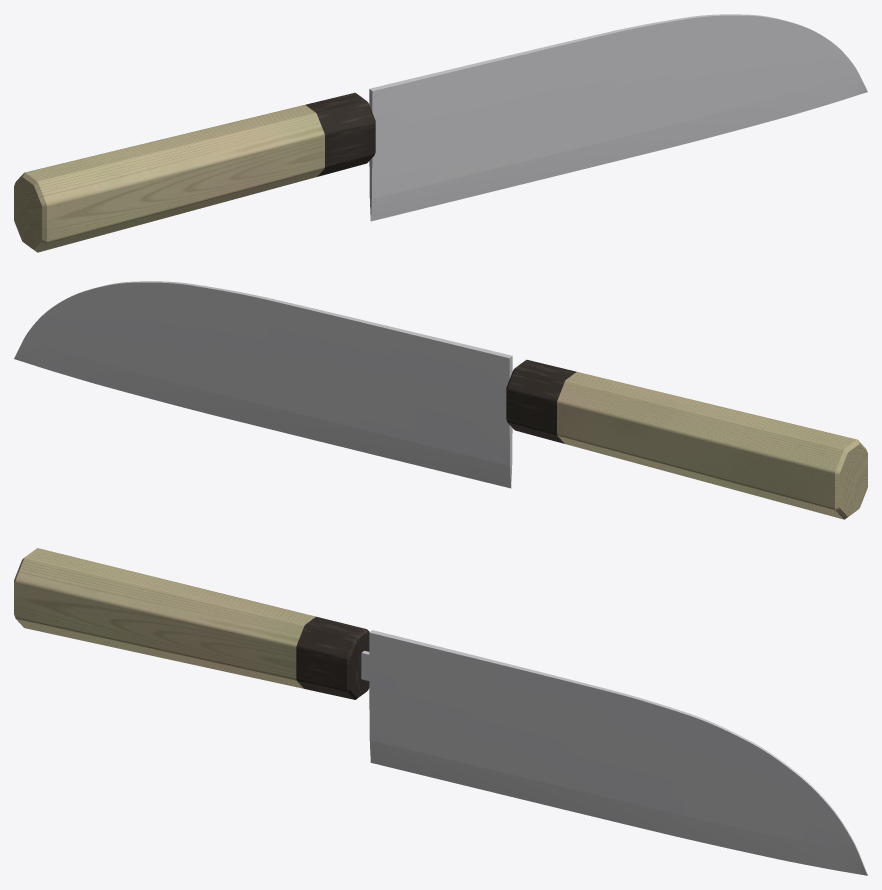
The model's file is santoku-side.glb.
3 renders of one model, top to bottom at view 1: azimuth 30°, elevation 25°; view 2: azimuth 150°, elevation 25°; view 3: azimuth 330°, elevation 25°, orthographic.
Parts seen in each view (by area): view 1: steel, handle; view 2: steel, handle; view 3: steel, handle.
Boxes of the visible parts, x1,y1,x2,y2 form: steel: (369, 14, 867, 221); handle: (14, 92, 375, 252); steel: (14, 281, 512, 488); handle: (506, 359, 867, 519); steel: (361, 630, 867, 875); handle: (14, 548, 369, 699).
Size of the model in its own units: 0.321 by 0.048 by 0.021.
4 materials, 2 textured.
